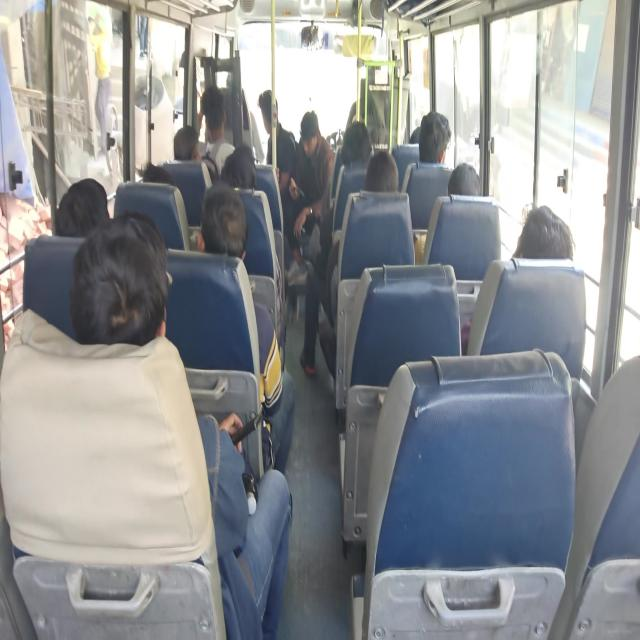person: (88, 243, 160, 364), (203, 179, 250, 260), (518, 203, 568, 268), (54, 181, 105, 238), (368, 159, 412, 210), (449, 165, 487, 208), (222, 152, 259, 194), (200, 89, 231, 137), (142, 163, 179, 203), (424, 115, 455, 160), (256, 93, 281, 144), (341, 129, 373, 168), (175, 125, 200, 164), (299, 112, 320, 150), (233, 140, 252, 160), (404, 129, 422, 147)
